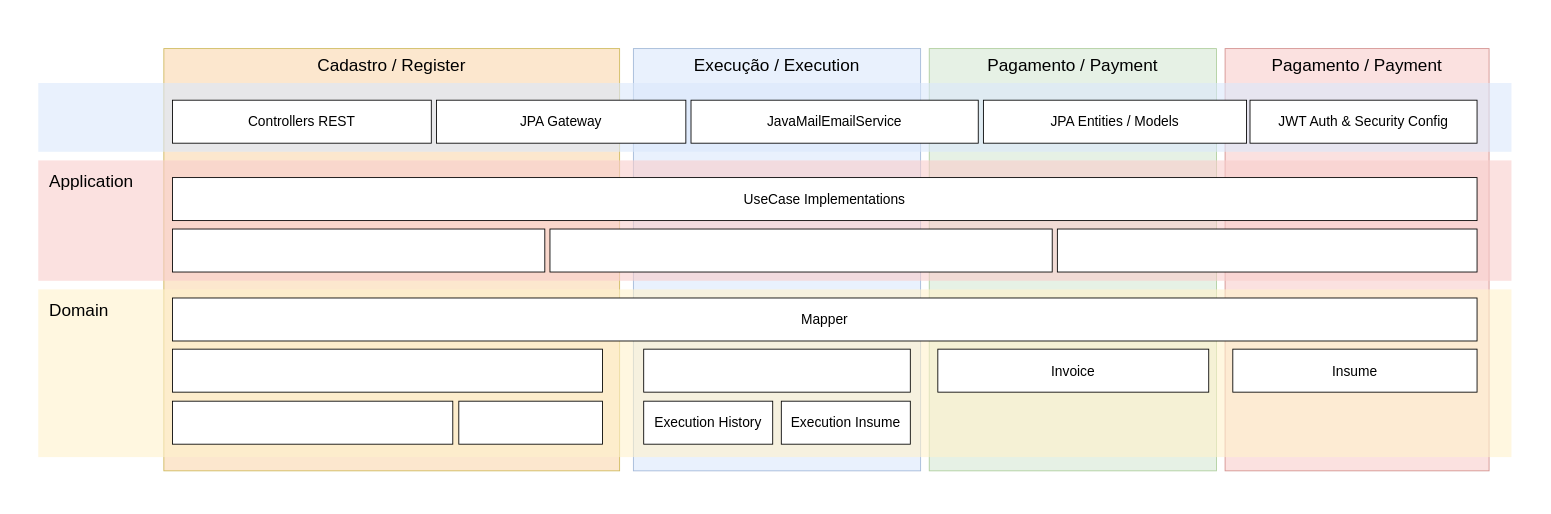
Image size: 1551x514. Some labels were removed from this diagram. Here are the shapes that lost their labels. From the top down, the box of each, then its label:
(38, 83, 1511, 151): Infrastructure
(172, 228, 545, 272): Gateway
(549, 228, 1052, 272): UseCase Interfaces
(1057, 228, 1477, 272): DTOs
(172, 348, 602, 392): Service Order
(643, 348, 910, 392): Execution
(172, 400, 453, 444): Customer
(458, 400, 602, 444): Vehicle
